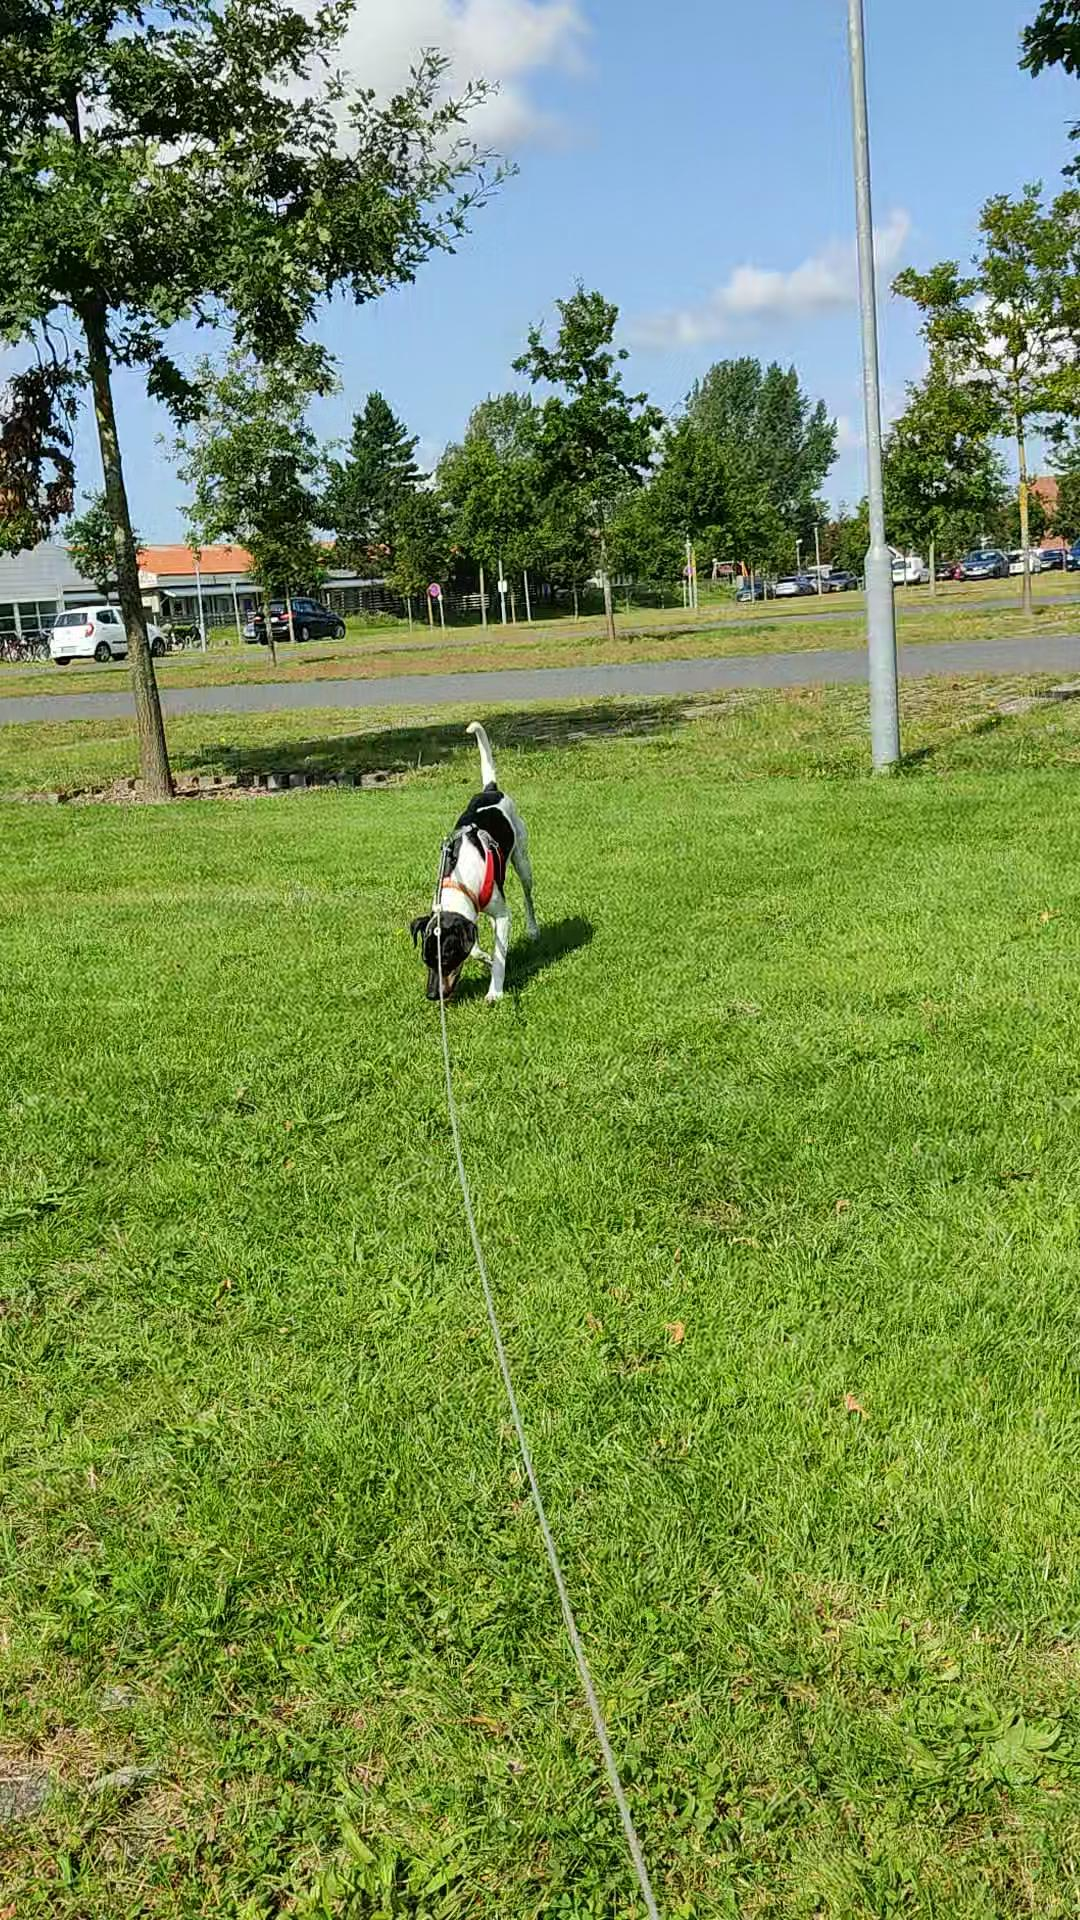Dog: (406, 715, 543, 1004)
